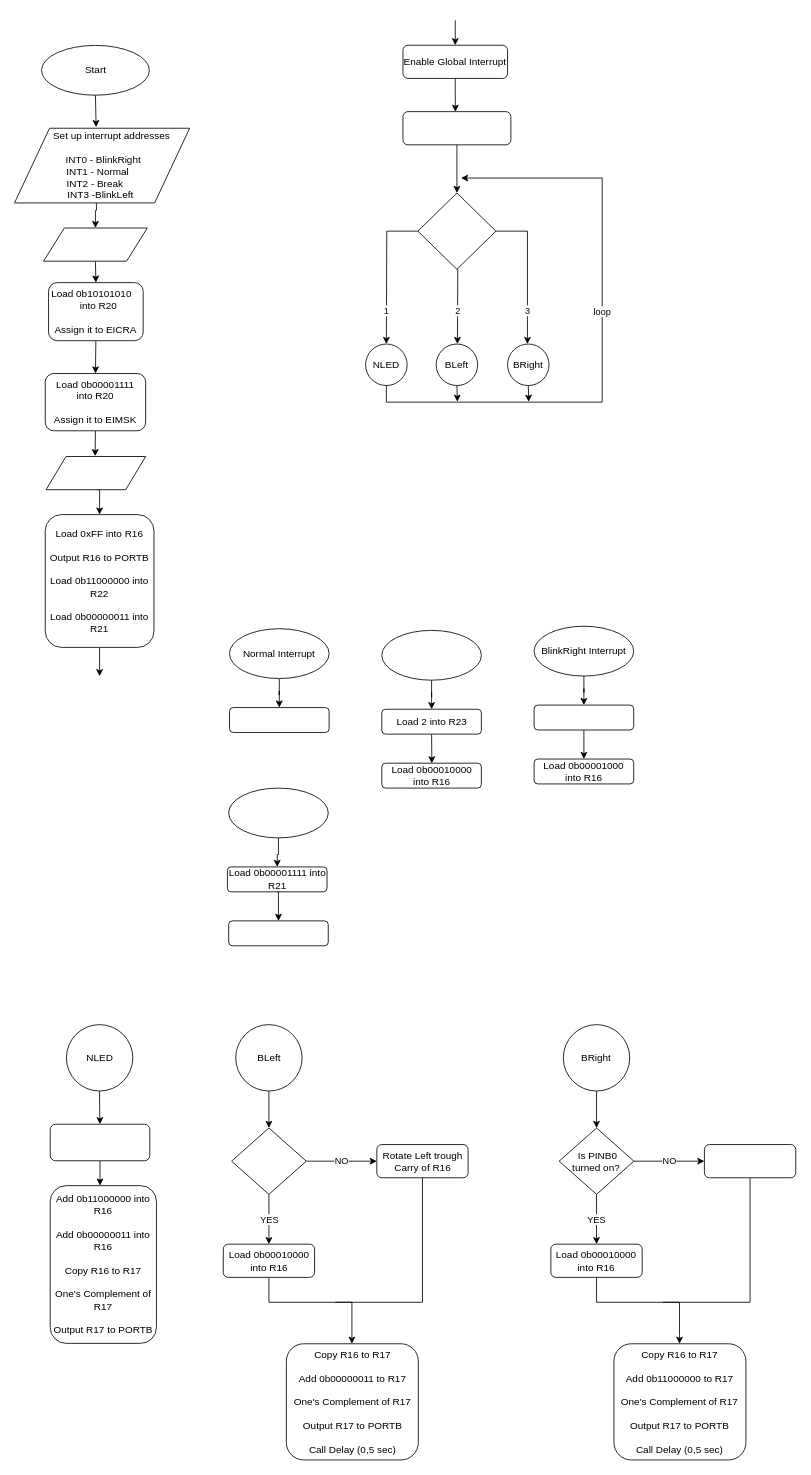
Image size: 811x1475. Some labels were removed from this diagram. The shapes that lost their labels are listed below. From the top down, each one's centre as x and y in pixels, then its label:
point 456,128: Load R23 with 1
point 95,244: Initialise Stack (R20)
point 456,230: What is R23 value?
point 95,473: PORTB ouput PORTD input
point 431,655: BlinkLeft Interrupt
point 279,719: Load 1 into R23
point 583,717: Load 3 into R23
point 278,812: Break Interrupt
point 278,933: Load 0b11110000 into R22
point 99,1142: Load 0b00000000 into R16
point 268,1160: Is PINB7 turned on?
point 750,1161: Rotate Right trough Carry of R16
